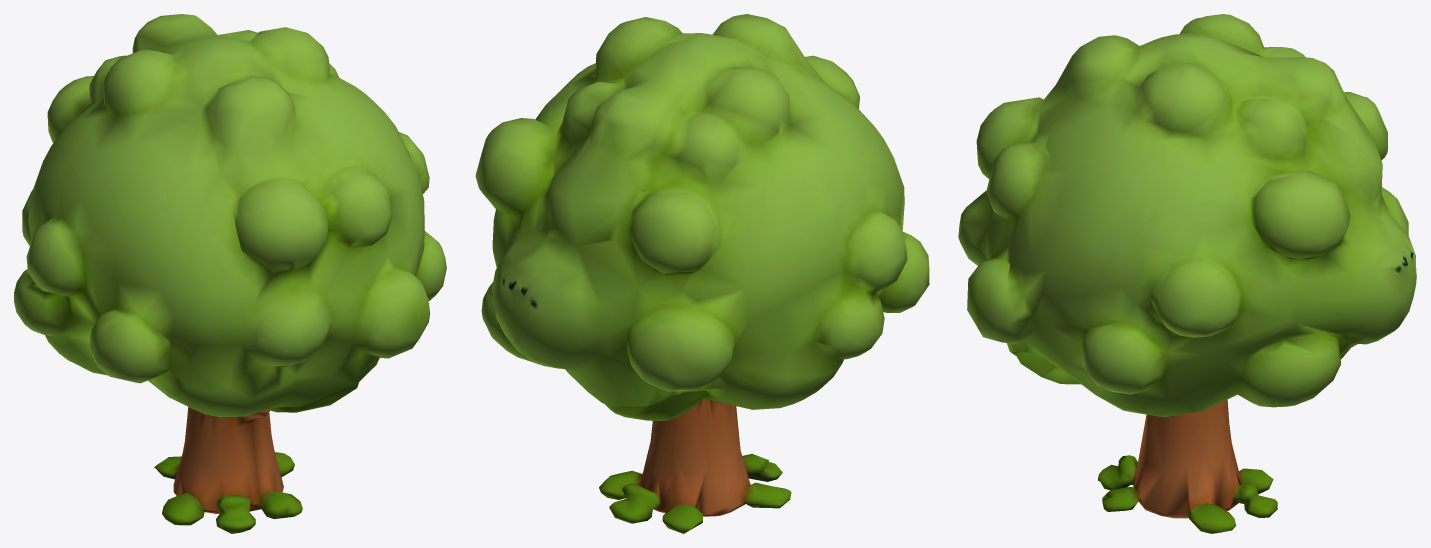
The model's file is apple_tree_tripo.glb.
3 renders of one model, left to right at view 1: azimuth 30°, elevation 25°; view 2: azimuth 150°, elevation 25°; view 3: azimuth 270°, elevation 25°, orthographic.
Visible parts, largest first — view 1: tripo_node_c87a8039-cf2c-4dec-a89b-3db5c1fef3c3; view 2: tripo_node_c87a8039-cf2c-4dec-a89b-3db5c1fef3c3; view 3: tripo_node_c87a8039-cf2c-4dec-a89b-3db5c1fef3c3.
Part boxes in pixels (x1,y1,x2,y2): tripo_node_c87a8039-cf2c-4dec-a89b-3db5c1fef3c3: [14, 14, 446, 533]; tripo_node_c87a8039-cf2c-4dec-a89b-3db5c1fef3c3: [475, 14, 929, 533]; tripo_node_c87a8039-cf2c-4dec-a89b-3db5c1fef3c3: [958, 14, 1416, 533].
Bounding box in the file's own units: 0.9133 × 0.9993 × 0.9081.
Materials: 1 (1 with a texture image).
